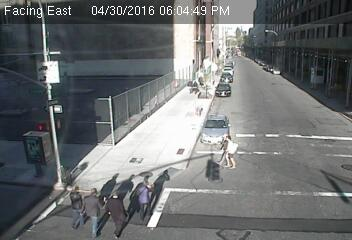neg: (310, 63, 330, 89), (187, 75, 206, 100), (155, 166, 173, 190), (122, 169, 138, 190), (269, 59, 281, 76), (110, 170, 120, 183)
pos: (74, 185, 114, 237), (56, 181, 92, 230), (98, 190, 132, 237), (127, 178, 161, 223), (217, 134, 242, 168), (210, 134, 235, 166)
